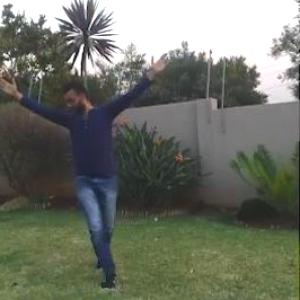takeoff: (1, 30, 225, 290)
